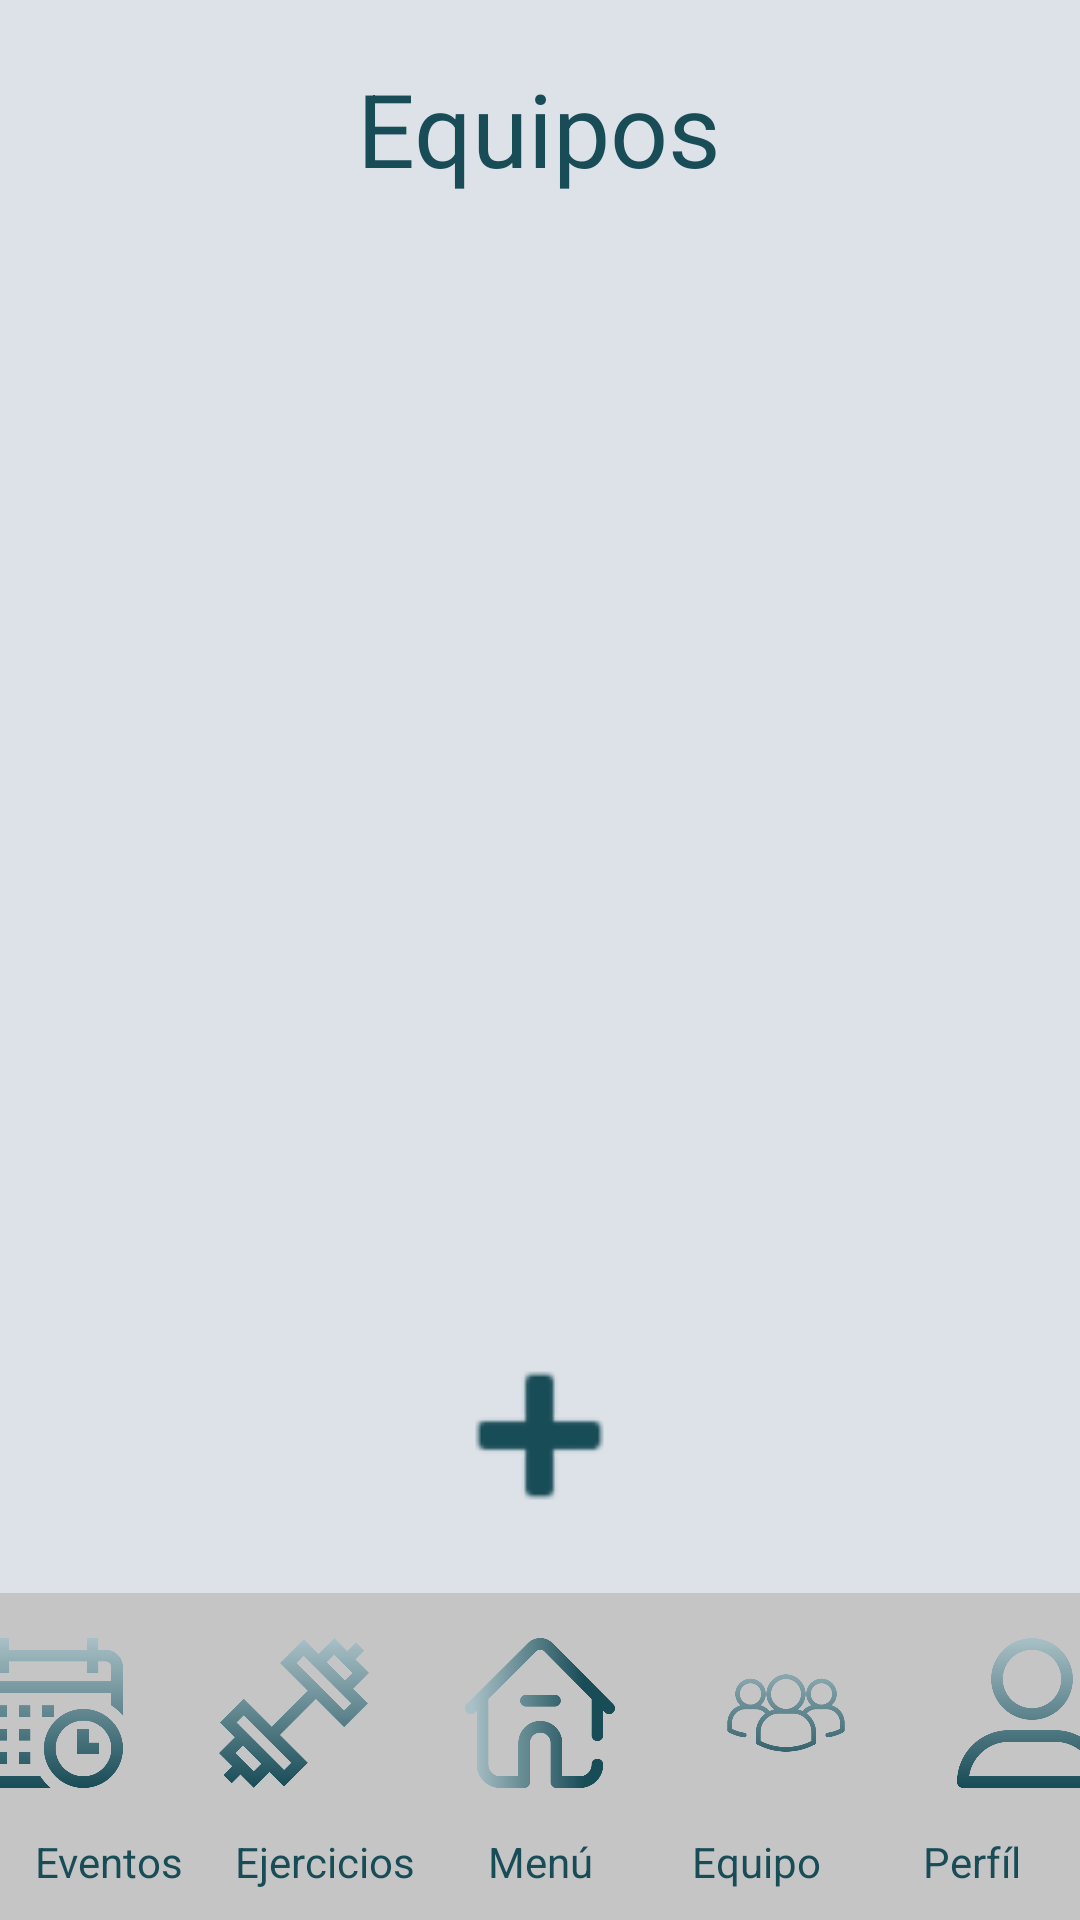

Icons on this 1080*1920 Android screen, each with the point to tap as (x,y):
grupo: (786,1713)
pesa: (294,1713)
Unirse: (539,1435)
